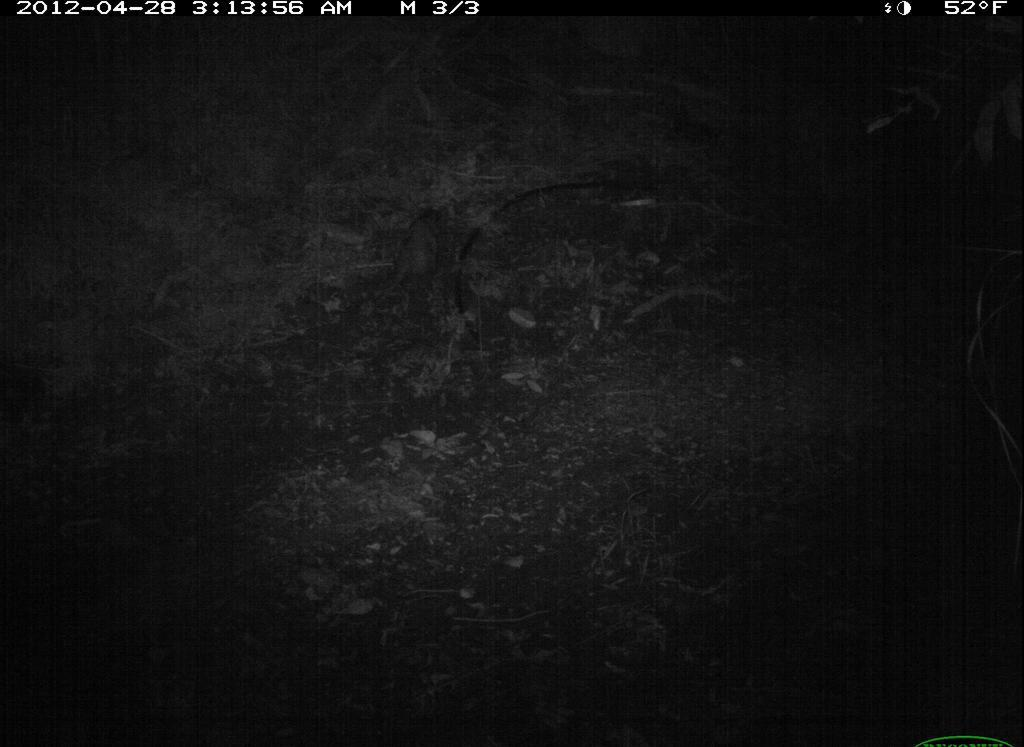opossum: (365, 191, 456, 320)
